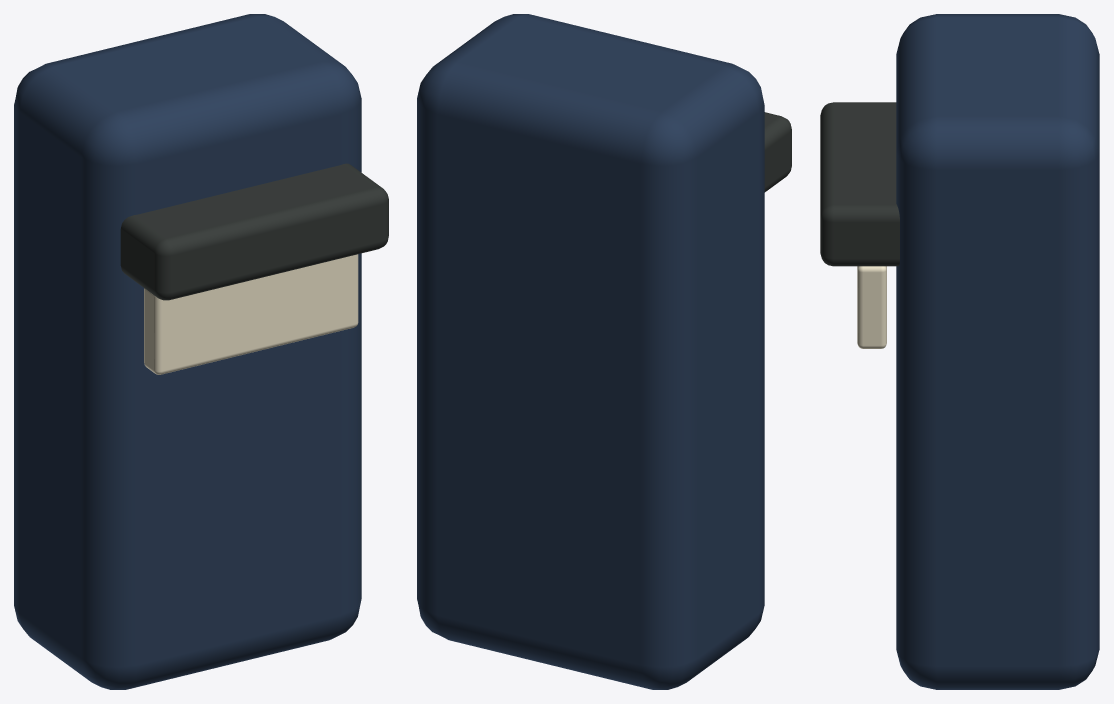
The model's file is planetarium-and-optical-observatory-aisle-guide-lamp-844e8365__31824.glb.
The picture shows the model from 3 angles, left to right: view 1: azimuth 30°, elevation 25°; view 2: azimuth 150°, elevation 25°; view 3: azimuth 270°, elevation 25°; orthographic projection.
Visible parts, largest first — view 1: aisle-guide-lamp; view 2: aisle-guide-lamp; view 3: aisle-guide-lamp.
Boxes of the visible parts, bbox=[...] form: aisle-guide-lamp: bbox=[14, 14, 388, 689]; aisle-guide-lamp: bbox=[417, 14, 791, 689]; aisle-guide-lamp: bbox=[820, 14, 1099, 689].
Size of the model in its own units: 0.085 by 0.17 by 0.0755.
